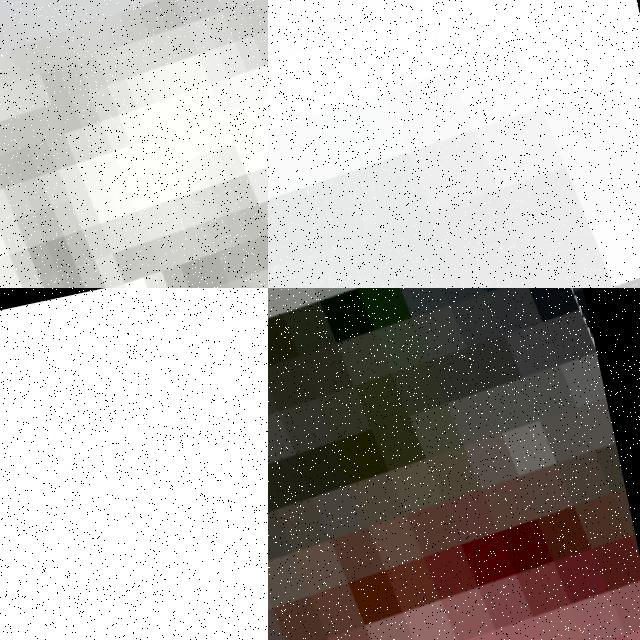0: (0, 0, 268, 288)
drone: (268, 288, 640, 640), (268, 0, 640, 288), (0, 288, 268, 640)
